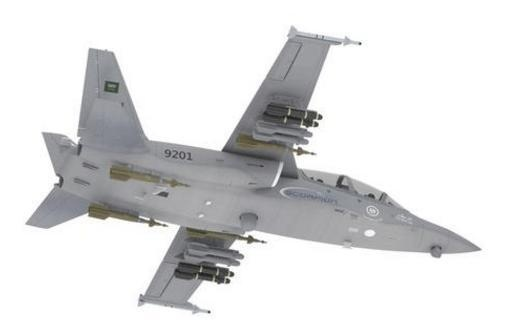airplane: (21, 24, 486, 315)
